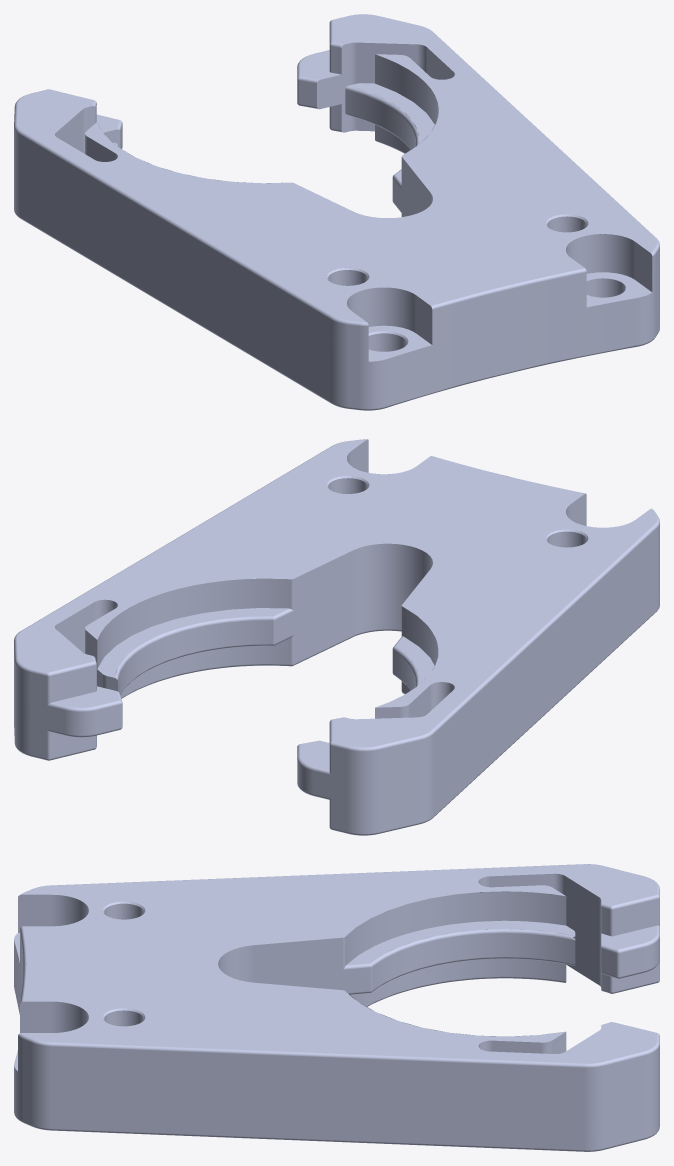
Rendered from Tool holder.glb.
3 renders of one model, top to bottom at view 1: azimuth 30°, elevation 25°; view 2: azimuth 150°, elevation 25°; view 3: azimuth 270°, elevation 25°, orthographic.
Visible parts, largest first — view 1: Tool holder.IGS (×26); view 2: Tool holder.IGS (×25); view 3: Tool holder.IGS (×35).
Part boxes in pixels (<box>): Tool holder.IGS (×26): <box>17,14,656,408</box>; Tool holder.IGS (×25): <box>14,439,657,833</box>; Tool holder.IGS (×35): <box>14,864,659,1151</box>.
Size of the model in its own units: 0.0737 by 0.015 by 0.0997.
